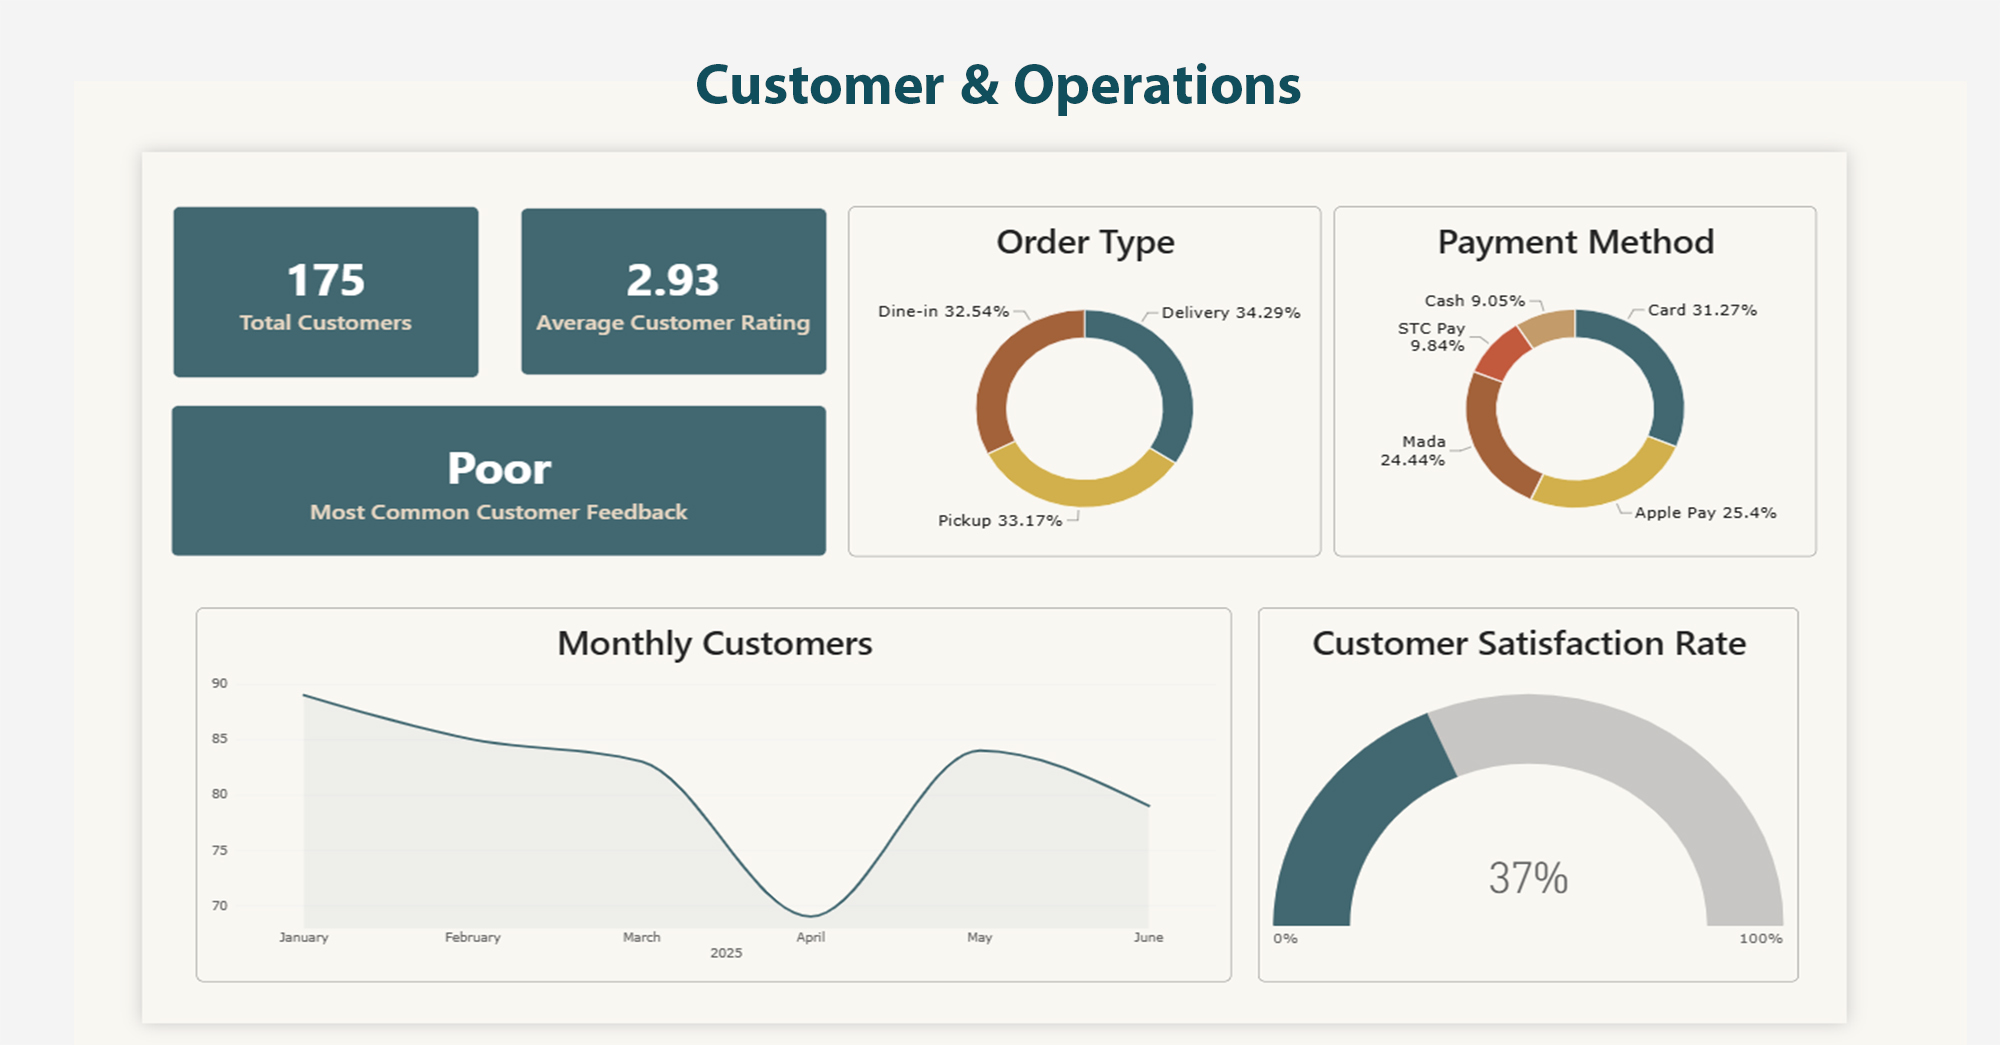

Layout of this report page (visuals, bound fields, positions):
{"tool":"powerbi","page":{"name":"Customer & Operations","canvas":[1920,1080],"ordinal":2},"visuals":[{"type":"card","fields":{"Values":["Measure Table.Total Customers"]},"box":[33.2,68.2,344.7,212.8],"z":0,"group":"g1"},{"type":"donutChart","title":"Order Type","fields":{"Y":["Measure Table.Total Orders"],"Category":["Restaurant Orders.Order Type"]},"box":[795.5,68.2,531.8,434.1],"z":0},{"type":"group","id":"g1","title":"Group 1","box":[31.8,68.2,738.6,434.1],"z":1000,"group":"g2"},{"type":"donutChart","title":"Payment Method","fields":{"Y":["Measure Table.Total Orders"],"Category":["Restaurant Orders.Payment Method"]},"box":[1343.2,68.2,543.2,434.1],"z":1000},{"type":"card","fields":{"Values":["Measure Table.Average Rating"]},"box":[424.7,71.1,344.6,207.1],"z":1000,"group":"g1"},{"type":"card","fields":{"Values":["Measure Table.Most Common Customer Feedback"]},"box":[31.8,315.2,738.6,187.1],"z":2000,"group":"g1"},{"type":"gauge","title":"Customer Satisfaction Rate","fields":{"Y":["Measure Table.Customer Satisfaction Rate"]},"box":[1256.8,565.9,609.1,463.6],"z":2000},{"type":"lineChart","title":" Monthly Customers","fields":{"Y":["Measure Table.Total Customers"],"Category":["Calendar.Year","Calendar.Month"]},"box":[61.4,565.9,1165.9,463.6],"z":7000},{"type":"group","id":"g2","title":"Group 2","box":[31.8,68.2,738.6,434.1],"z":8000}]}

Visuals, with their boxes on the page's 1920x1080 design canvas (x1, y1, x2, y2). These are canvas units, not pixel positions in the 2000x1045 screenshot, which may show the page scaled, cropped or inside an application window:
card - Measure Table.Total Customers: box(33, 68, 378, 281)
"Order Type" donutChart: box(796, 68, 1327, 502)
"Group 1" group: box(32, 68, 770, 502)
"Payment Method" donutChart: box(1343, 68, 1886, 502)
card - Measure Table.Average Rating: box(425, 71, 769, 278)
card - Measure Table.Most Common Customer Feedback: box(32, 315, 770, 502)
"Customer Satisfaction Rate" gauge: box(1257, 566, 1866, 1030)
" Monthly Customers" lineChart: box(61, 566, 1227, 1030)
"Group 2" group: box(32, 68, 770, 502)
